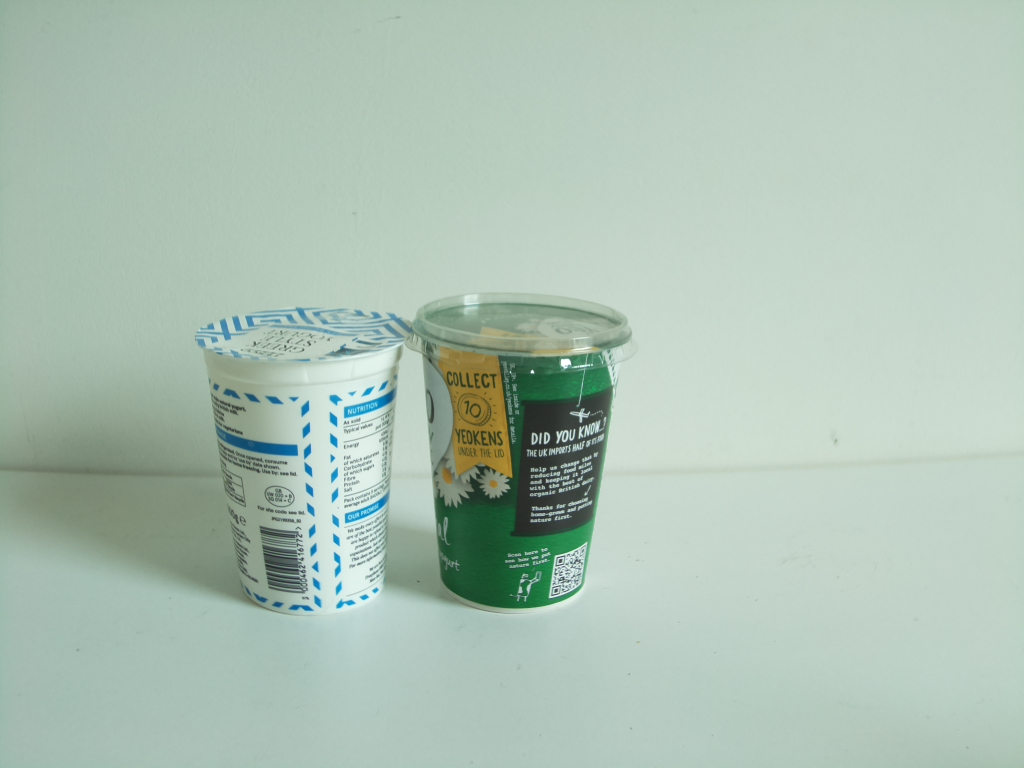yogurt: (410, 289, 638, 626), (191, 303, 412, 614)
